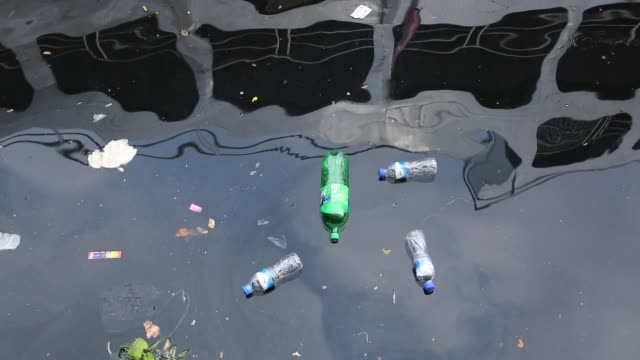plastic_bottle: (386, 189, 476, 350), (357, 108, 483, 219), (276, 126, 373, 265), (196, 242, 348, 321)
